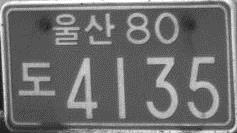0: (154, 11, 180, 44)
1: (114, 55, 128, 121)
3: (144, 56, 179, 120)
4: (66, 57, 98, 120)
5: (186, 55, 220, 120)
8: (126, 12, 150, 45)
도: (18, 60, 56, 98)
울산_O: (51, 12, 115, 46)
